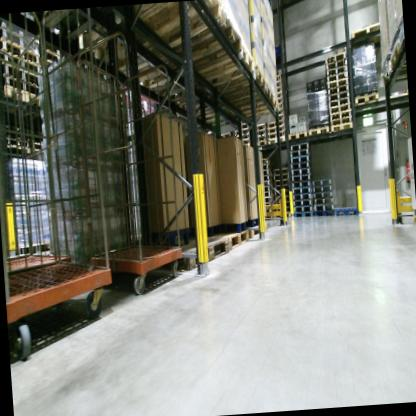pallet: (80, 18, 168, 77), (126, 1, 230, 48), (171, 21, 247, 79), (118, 48, 200, 99), (143, 81, 224, 121), (190, 46, 259, 90), (162, 235, 232, 275), (214, 68, 269, 99), (0, 20, 40, 57), (346, 20, 388, 53), (227, 85, 276, 113), (0, 36, 39, 67), (0, 47, 39, 78), (203, 105, 242, 135), (239, 93, 279, 119), (0, 83, 41, 108), (3, 61, 40, 88), (0, 75, 38, 100), (218, 229, 253, 255), (349, 87, 381, 114), (222, 122, 266, 137), (382, 59, 407, 84), (388, 37, 405, 68), (247, 219, 270, 240), (4, 134, 30, 152), (40, 43, 62, 63), (4, 144, 30, 159), (334, 204, 360, 217), (323, 50, 347, 64), (307, 123, 330, 137), (267, 136, 289, 149), (288, 142, 314, 153), (328, 104, 351, 116), (328, 96, 351, 108), (326, 64, 348, 76), (329, 110, 352, 121), (287, 130, 308, 142), (330, 116, 352, 127), (326, 78, 348, 89), (323, 58, 347, 68), (328, 92, 349, 103), (266, 116, 287, 127), (331, 124, 354, 134), (290, 155, 312, 165), (326, 86, 350, 95), (266, 123, 287, 133), (311, 178, 332, 188), (30, 139, 44, 153), (290, 187, 312, 195), (290, 180, 312, 188), (289, 169, 311, 177), (289, 150, 311, 158), (313, 197, 335, 205), (313, 210, 335, 218), (266, 129, 287, 137), (291, 194, 315, 201), (312, 185, 333, 193), (313, 203, 334, 211), (272, 166, 290, 175), (272, 179, 290, 188), (234, 128, 250, 138), (326, 74, 352, 80), (290, 174, 312, 181), (294, 200, 315, 207), (275, 212, 294, 219), (294, 211, 313, 218), (294, 206, 313, 213), (290, 162, 311, 168), (313, 192, 334, 198), (255, 139, 268, 148), (271, 174, 290, 180), (261, 190, 275, 198), (259, 156, 271, 165), (274, 207, 291, 213), (236, 134, 250, 141), (276, 192, 290, 199), (256, 134, 268, 142), (276, 187, 291, 193), (260, 164, 272, 171), (261, 197, 275, 203), (240, 116, 248, 125), (254, 130, 267, 135), (263, 203, 276, 208), (241, 138, 250, 145), (262, 180, 271, 187), (261, 174, 271, 180), (263, 186, 275, 191), (275, 96, 283, 103), (278, 113, 286, 120), (261, 170, 272, 175), (241, 124, 250, 130), (276, 80, 283, 87), (275, 86, 283, 92), (276, 103, 284, 109), (275, 75, 282, 81), (284, 202, 291, 208), (278, 108, 284, 114), (413, 216, 416, 228), (276, 92, 283, 97), (285, 198, 291, 202)
